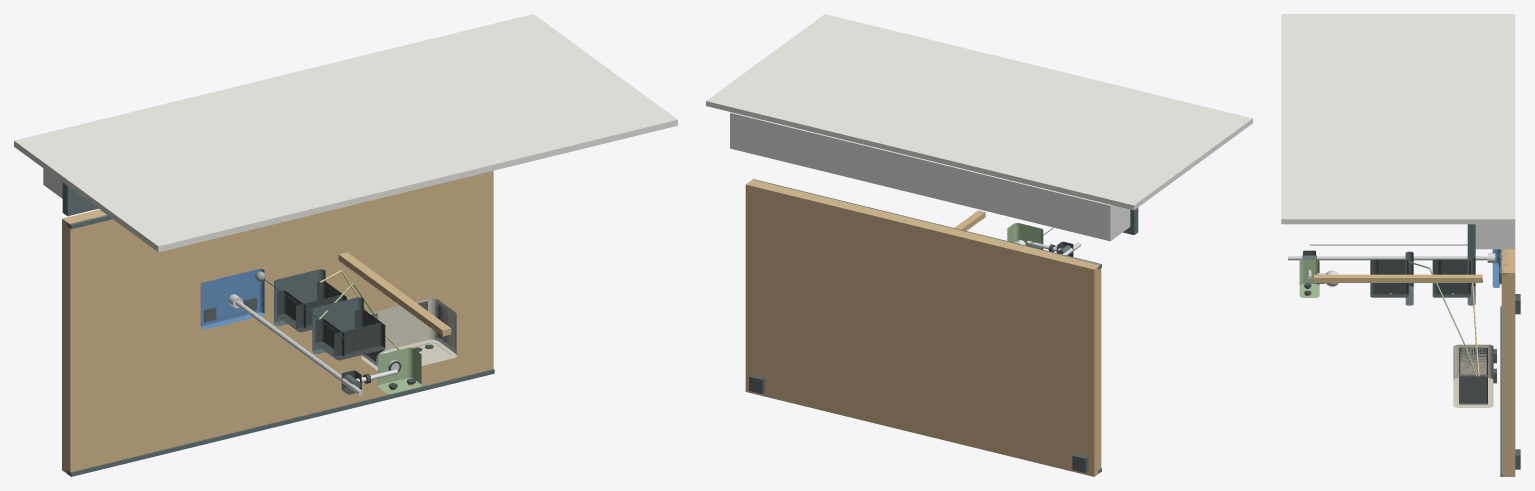
File: rp03-free-fall.glb
3 renders of one model, left to right at view 1: azimuth 30°, elevation 25°; view 2: azimuth 150°, elevation 25°; view 3: azimuth 270°, elevation 25°, orthographic. The views are drawn at different scales.
Parts seen in each view (by area): view 1: Laboratory background wall, Laboratory bench laminate, Data logger cream case, Free-fall stand blue base, Laboratory bench dark edge, Vertical metre rule, Release mechanism green housing, Light gate 1 bridge, Light gate 2 weighted base, Light gate 1 weighted base, Free-fall stand vertical rod, Light gate 1 left upright (+1 smaller); view 2: Laboratory bench laminate, Laboratory background wall, Laboratory background cabinet carcass, Release mechanism green housing; view 3: Laboratory background wall, Laboratory bench laminate, Data logger cream case, Vertical metre rule, Laboratory background cabinet carcass, Data logger right bumper, Free-fall stand vertical rod, Release mechanism green housing, Light gate 1 left upright, Light gate 1 right upright, Light gate 2 left upright, Light gate 2 right upright (+6 smaller).
Boxes of the visible parts, <box> form: Laboratory background wall: <box>14,14,677,252</box>; Laboratory bench laminate: <box>62,170,493,473</box>; Data logger cream case: <box>361,298,456,370</box>; Free-fall stand blue base: <box>200,269,264,329</box>; Laboratory bench dark edge: <box>67,369,494,476</box>; Vertical metre rule: <box>338,252,451,336</box>; Release mechanism green housing: <box>378,347,421,393</box>; Light gate 1 bridge: <box>334,322,385,360</box>; Light gate 2 weighted base: <box>274,269,325,325</box>; Light gate 1 weighted base: <box>312,297,363,353</box>; Free-fall stand vertical rod: <box>235,300,363,395</box>; Light gate 1 left upright: <box>315,318,344,359</box>; Laboratory bench laminate: <box>745,179,1101,476</box>; Laboratory background wall: <box>706,14,1252,210</box>; Laboratory background cabinet carcass: <box>730,112,1130,241</box>; Release mechanism green housing: <box>1007,223,1043,249</box>; Laboratory background wall: <box>1281,14,1515,224</box>; Laboratory bench laminate: <box>1501,224,1515,476</box>; Data logger cream case: <box>1453,344,1493,407</box>; Vertical metre rule: <box>1314,274,1482,282</box>; Laboratory background cabinet carcass: <box>1475,224,1514,249</box>; Data logger right bumper: <box>1459,376,1487,404</box>; Free-fall stand vertical rod: <box>1288,256,1487,260</box>; Release mechanism green housing: <box>1299,259,1319,297</box>; Light gate 1 left upright: <box>1372,259,1408,274</box>; Light gate 1 right upright: <box>1372,283,1408,297</box>; Light gate 2 left upright: <box>1434,259,1470,274</box>; Light gate 2 right upright: <box>1434,283,1470,297</box>.
Bounding box in the file's own units: 10.8 × 6.78 × 5.32.
